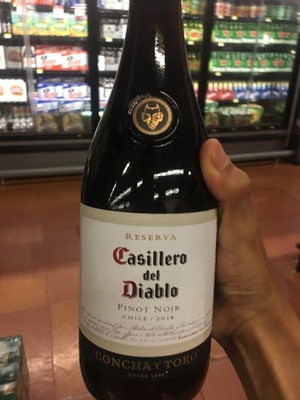casillero del diablo pinot noir: (69, 27, 244, 390)
